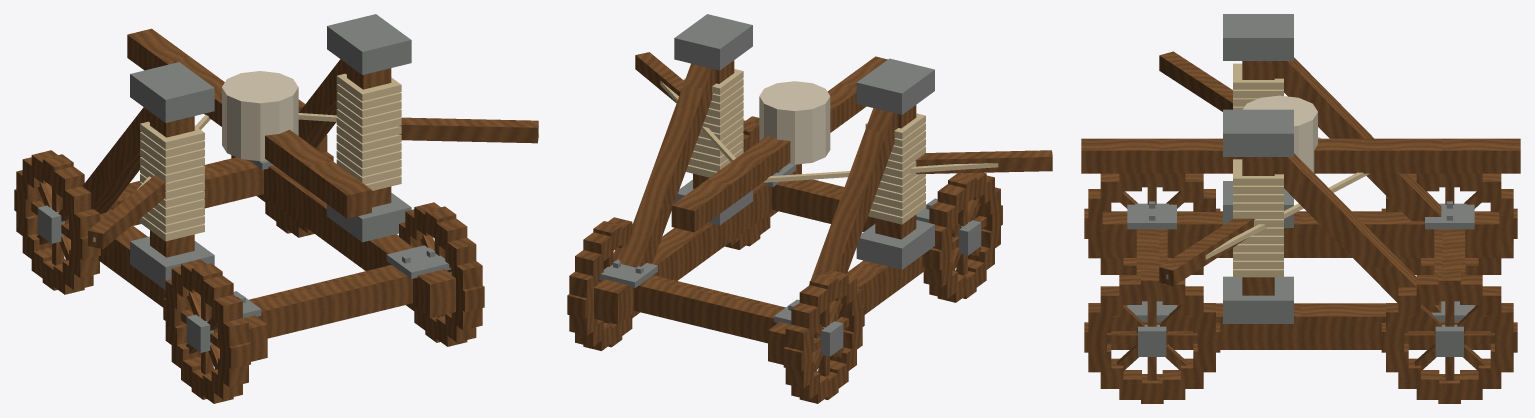
3 renders of one model, left to right at view 1: azimuth 30°, elevation 25°; view 2: azimuth 150°, elevation 25°; view 3: azimuth 270°, elevation 25°, orthographic. The views are drawn at different scales.
Size of the model in its own units: 367 by 209 by 310.
Materials: 4 (1 with a texture image).
